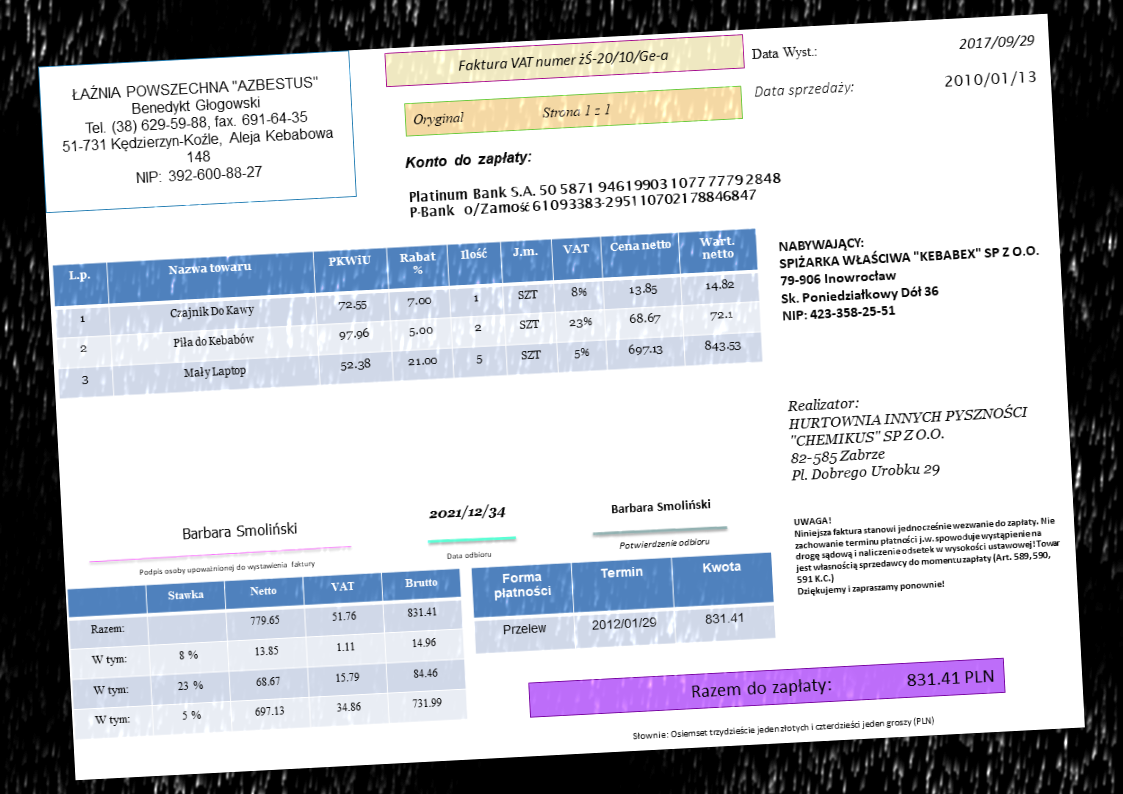Table: (51, 227, 764, 400), (66, 567, 469, 740), (470, 550, 777, 656)
TextBox: (56, 69, 338, 191), (792, 502, 1064, 599), (776, 226, 1044, 324), (785, 384, 1034, 484), (406, 168, 785, 221), (688, 665, 997, 703), (629, 713, 938, 745), (410, 100, 614, 130), (455, 46, 671, 74), (136, 557, 318, 579), (402, 146, 535, 174), (180, 518, 300, 542), (751, 78, 856, 101), (942, 68, 1037, 92), (608, 496, 713, 516), (427, 501, 508, 526), (956, 31, 1036, 53), (616, 535, 710, 552), (749, 42, 818, 64), (445, 548, 493, 561)
